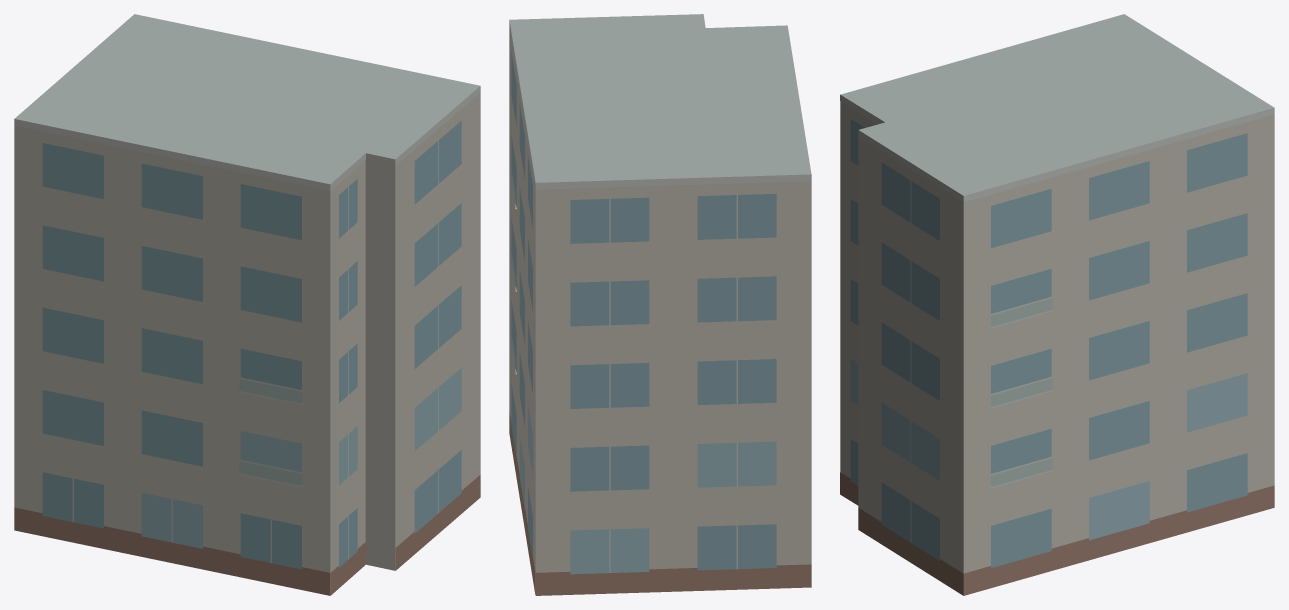
Rendered from survey-upis-32882706.glb.
3 renders of one model, left to right at view 1: azimuth 30°, elevation 25°; view 2: azimuth 150°, elevation 25°; view 3: azimuth 270°, elevation 25°, orthographic. The views are drawn at different scales.
Visible parts, largest first — view 1: survey-upis-32882706.tmp; view 2: survey-upis-32882706.tmp; view 3: survey-upis-32882706.tmp.
Boxes of the visible parts, bbox=[...] form: survey-upis-32882706.tmp: bbox=[14, 14, 480, 595]; survey-upis-32882706.tmp: bbox=[509, 14, 811, 595]; survey-upis-32882706.tmp: bbox=[840, 14, 1274, 595].
Size of the model in its own units: 14.64 by 15 by 14.78.
